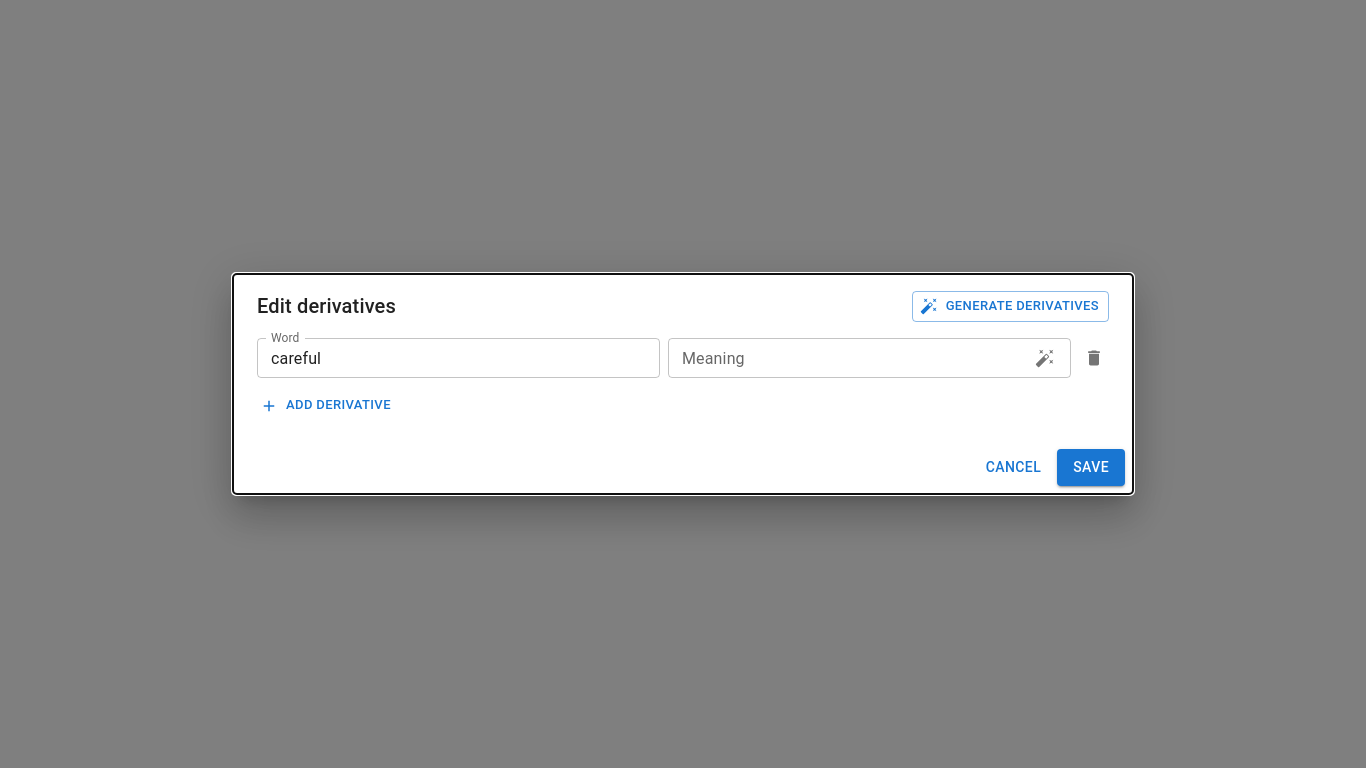
Test: DerivativeEditDialog › shows an error when no exact dictionary meaning is found for the row
Click the button named "Generate meanings: careful" at (1045, 358), box [1030,343,1060,373]
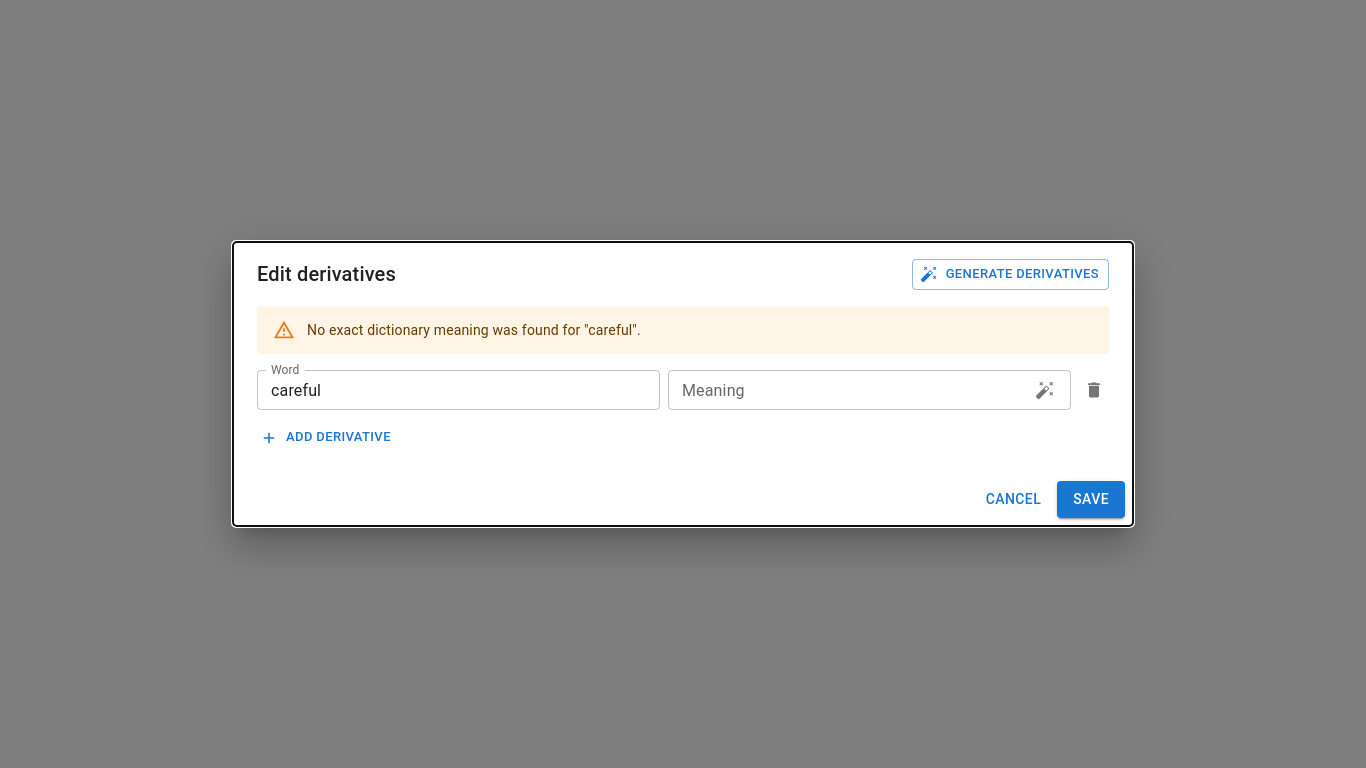
Check: the text "No exact dictionary meaning was found for \"careful\"." is shown, box [307,322,641,338]
